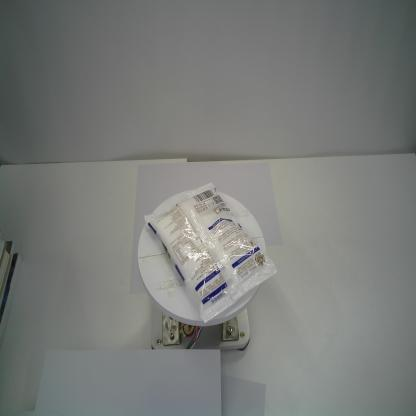Seasoner: (141, 182, 279, 326)
